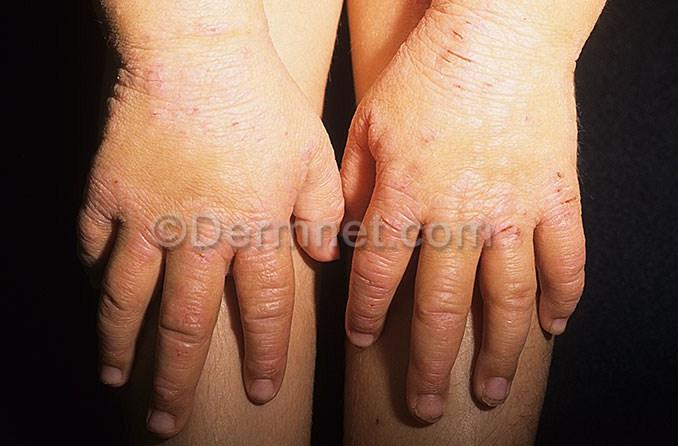excoriacion 2: (80, 137, 335, 401), (404, 0, 582, 232), (347, 113, 478, 394), (146, 17, 296, 156)
exudacion 1: (432, 43, 500, 96), (548, 162, 583, 213)
